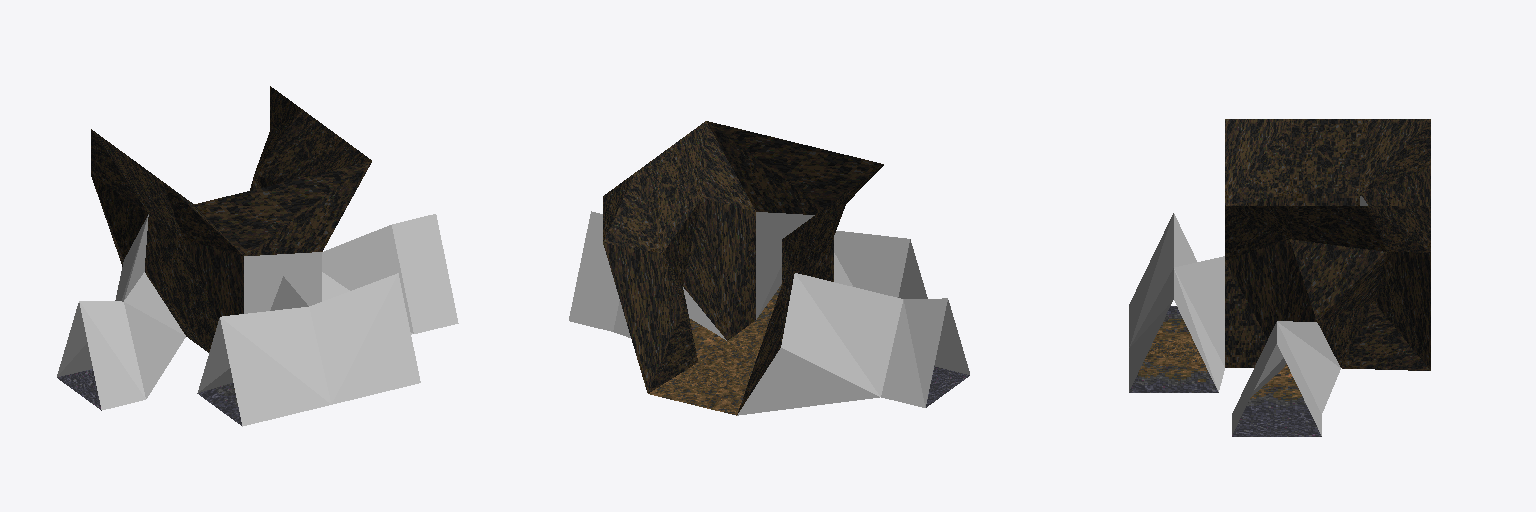
3 renders of one model, left to right at view 1: azimuth 30°, elevation 25°; view 2: azimuth 150°, elevation 25°; view 3: azimuth 270°, elevation 25°, orthographic.
Parts seen in each view (by area): view 1: model60203-node; view 2: model60203-node; view 3: model60203-node.
Part boxes in pixels (x1,y1,x2,y2): model60203-node: (57, 86, 458, 426); model60203-node: (569, 121, 969, 415); model60203-node: (1129, 119, 1430, 436).
Bounding box in the file's own units: 1024 × 512 × 752.
6 materials, 4 textured.